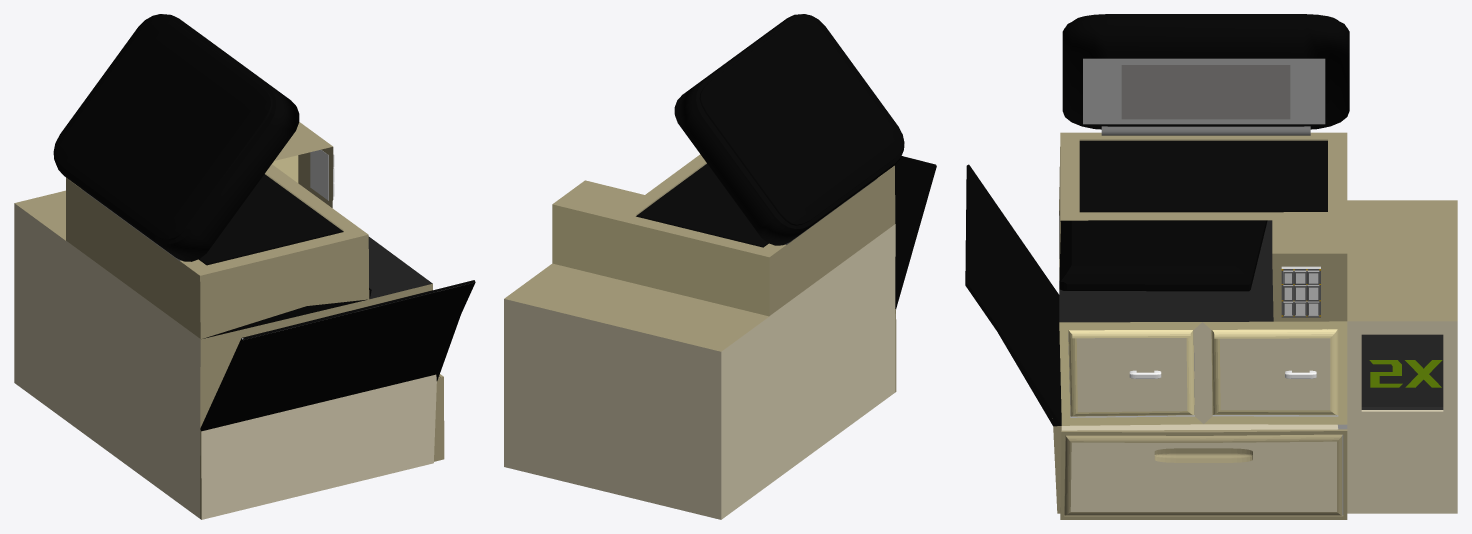
File: PhotoCopier.fbx
The picture shows the model from 3 angles, left to right: view 1: azimuth 30°, elevation 25°; view 2: azimuth 150°, elevation 25°; view 3: azimuth 270°, elevation 25°; orthographic projection. The views are drawn at different scales.
Visible parts, largest first — view 1: Cylinder, Cube.002; view 2: Cylinder; view 3: Cylinder, Cube.002, Text.
Part boxes in pixels (x1,y1,x2,y2): Cylinder: (14,14,475,519); Cube.002: (310,149,334,200); Cylinder: (504,14,936,519); Cylinder: (965,14,1457,519); Cube.002: (1281,266,1320,317); Text: (1369,360,1442,387).
Size of the model in its own units: 233 by 326 by 343.
